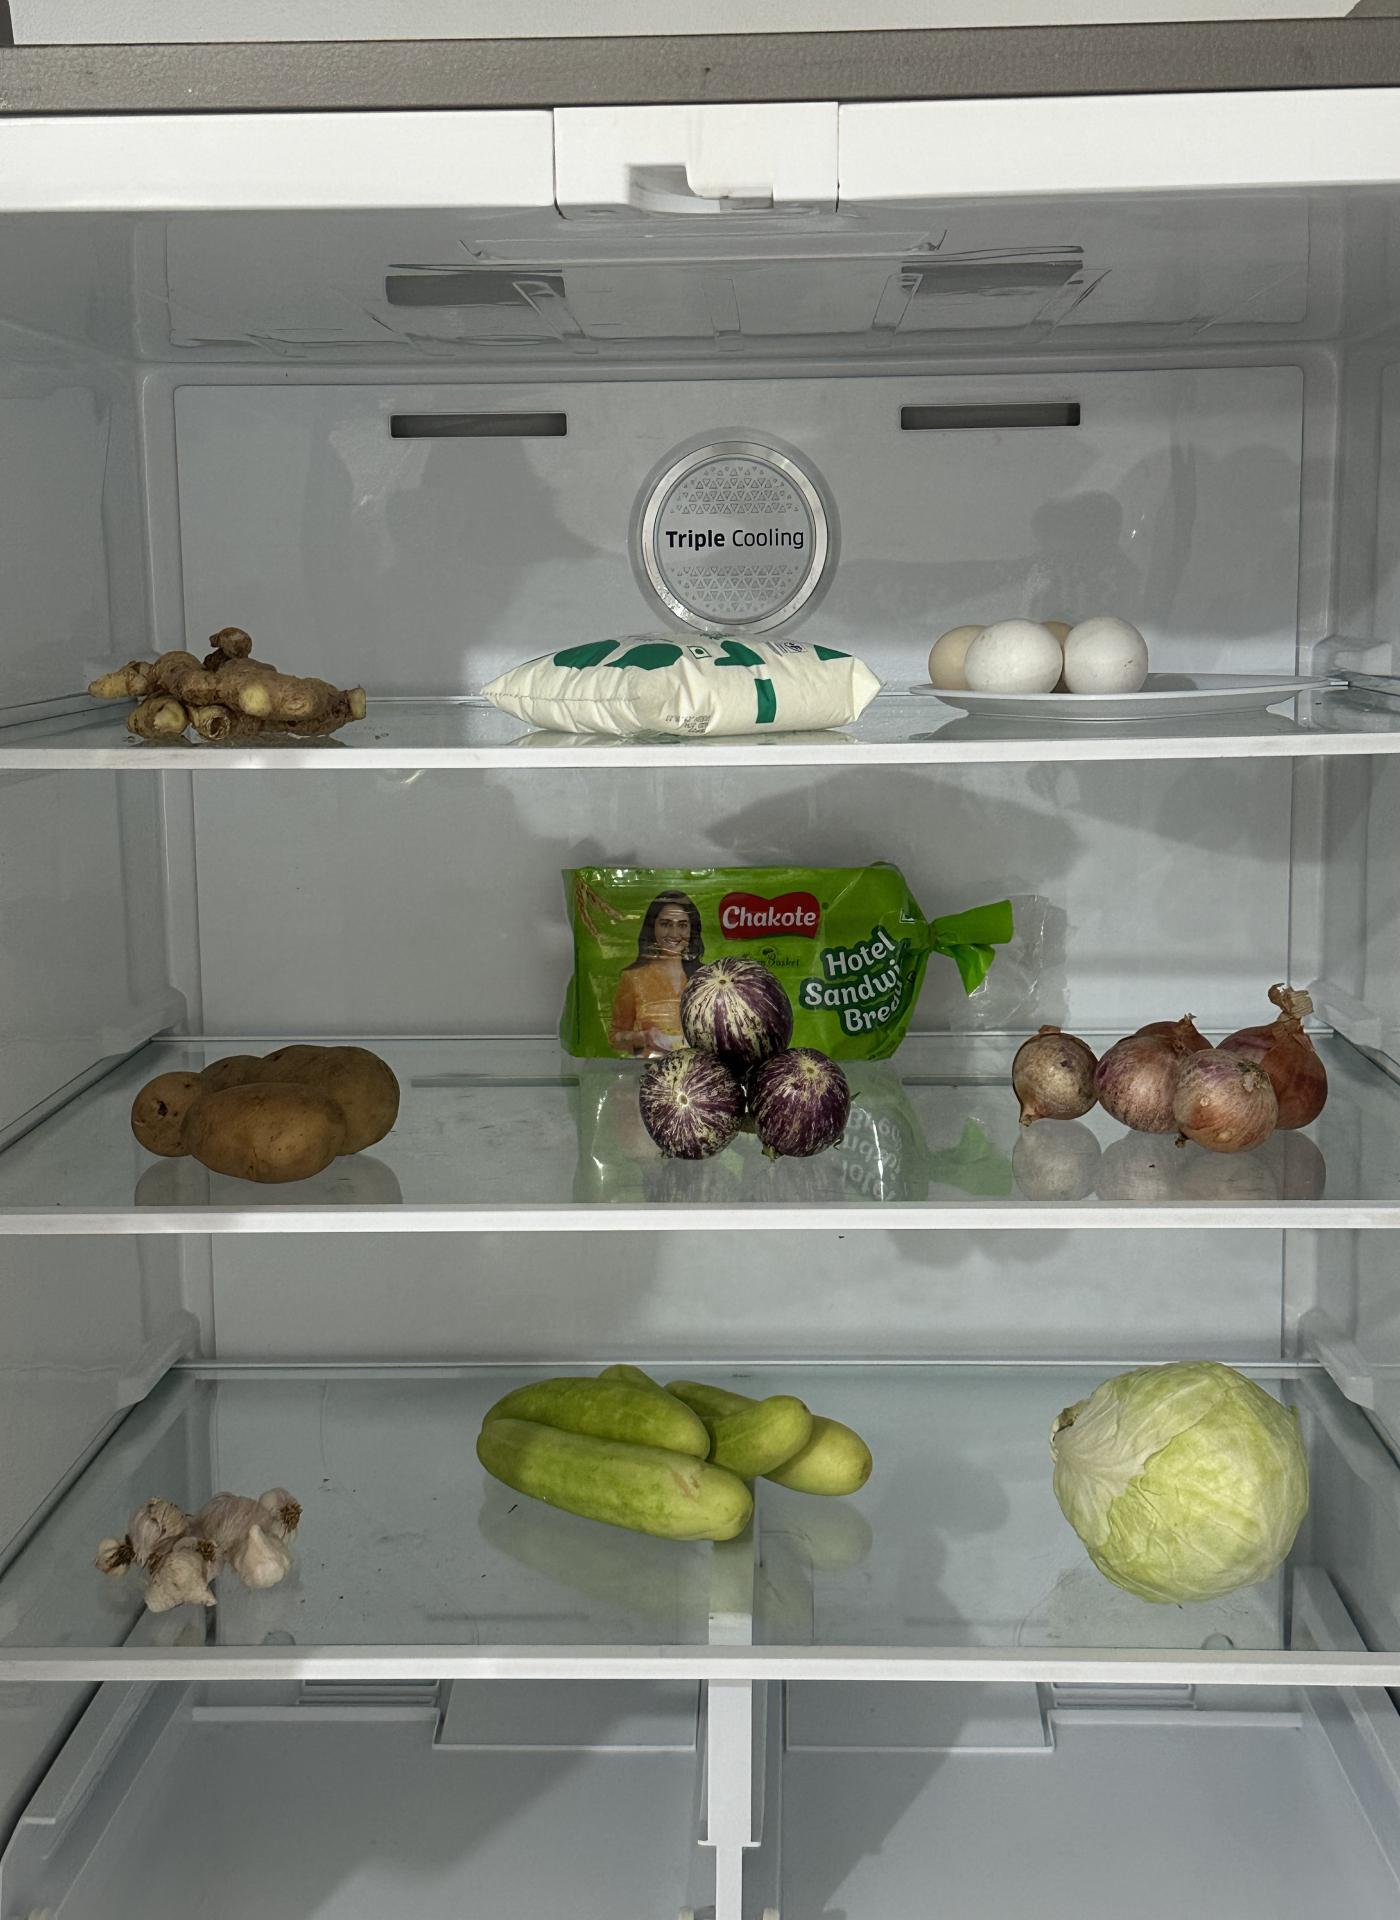bread: (561, 842, 956, 988)
cabbage: (1053, 1354, 1309, 1598)
cucumber: (476, 1358, 869, 1541)
egg: (923, 613, 1150, 699)
garlic: (97, 1486, 307, 1607)
ginger: (83, 617, 373, 748)
milk: (479, 631, 878, 733)
onion: (1003, 1008, 1333, 1149)
potato: (128, 1042, 401, 1179)
